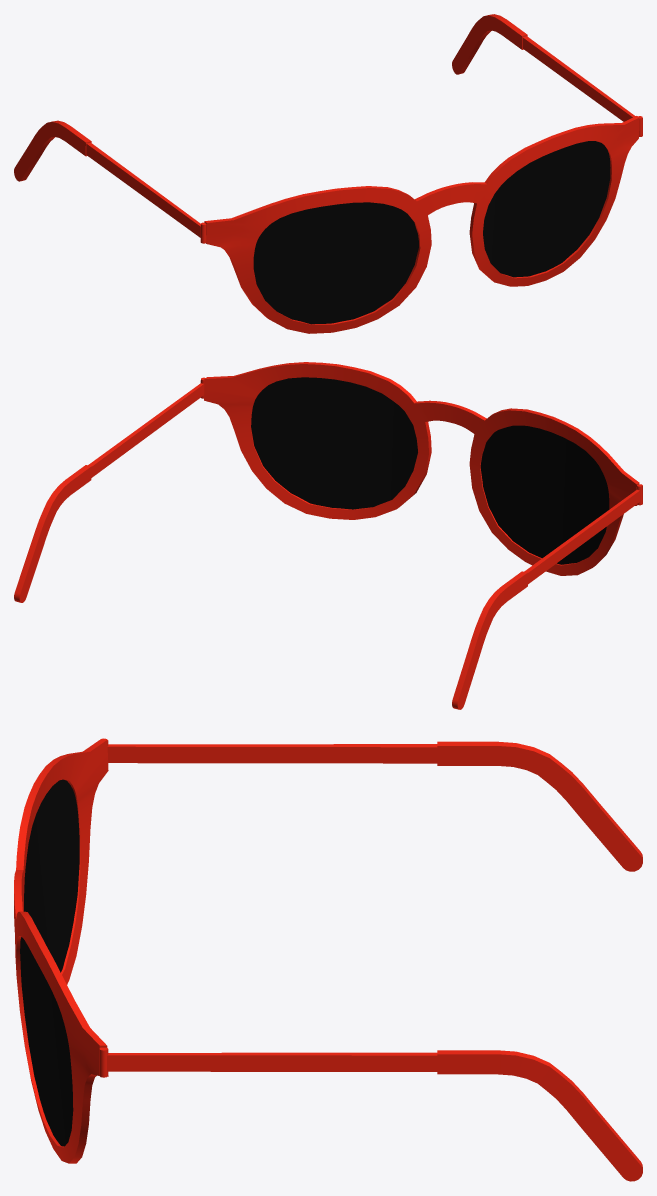
The model's file is glasses26.001.obj.
The picture shows the model from 3 angles, top to bottom: view 1: azimuth 30°, elevation 25°; view 2: azimuth 150°, elevation 25°; view 3: azimuth 270°, elevation 25°; orthographic projection. The views are drawn at different scales.
Parts seen in each view (by area): view 1: glasses26.001_glasses26.001_Material.016, glasses26.001_glasses26.001_Material.035; view 2: glasses26.001_glasses26.001_Material.016, glasses26.001_glasses26.001_Material.035; view 3: glasses26.001_glasses26.001_Material.035, glasses26.001_glasses26.001_Material.016.
Part boxes in pixels (x1,y1,x2,y2): glasses26.001_glasses26.001_Material.016: (253,141,610,324); glasses26.001_glasses26.001_Material.035: (14,14,642,333); glasses26.001_glasses26.001_Material.016: (251,377,609,564); glasses26.001_glasses26.001_Material.035: (14,362,642,709); glasses26.001_glasses26.001_Material.035: (14,738,642,1181); glasses26.001_glasses26.001_Material.016: (20,779,79,1146).
Bounding box in the file's own units: 2.02 × 0.6409 × 1.71.
